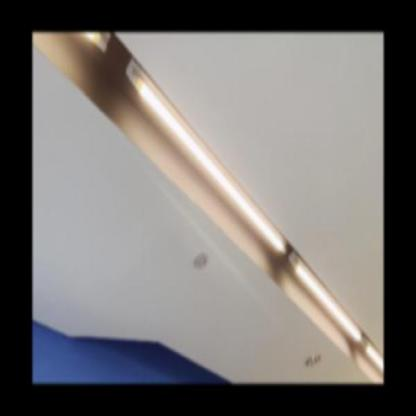light_on: (121, 51, 287, 260), (286, 240, 362, 357), (75, 32, 115, 64), (366, 334, 383, 376)
